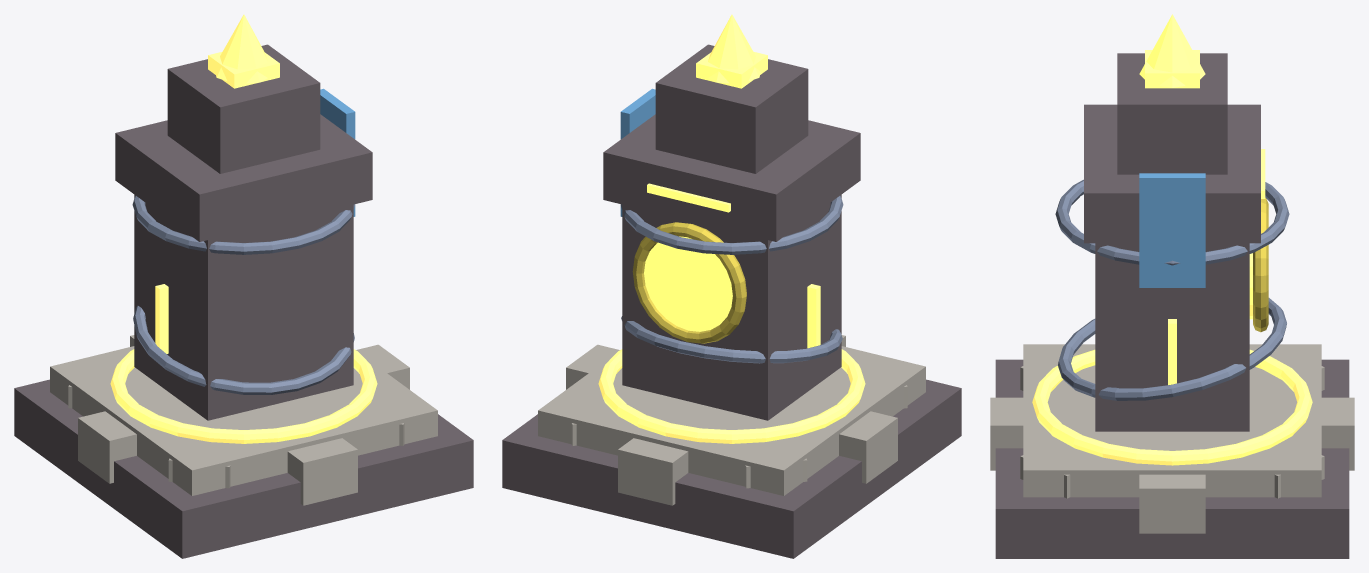
File: inferno_tower.glb
3 renders of one model, left to right at view 1: azimuth 30°, elevation 25°; view 2: azimuth 150°, elevation 25°; view 3: azimuth 270°, elevation 25°, orthographic. The views are drawn at different scales.
Parts seen in each view (by area): view 1: inferno_tower; view 2: inferno_tower; view 3: inferno_tower.
Part boxes in pixels (box(x1,y1,x2,y2)): inferno_tower: box(14, 14, 473, 558); inferno_tower: box(502, 14, 961, 558); inferno_tower: box(990, 14, 1354, 558).
Size of the model in its own units: 3.3 by 4.7 by 3.3.
